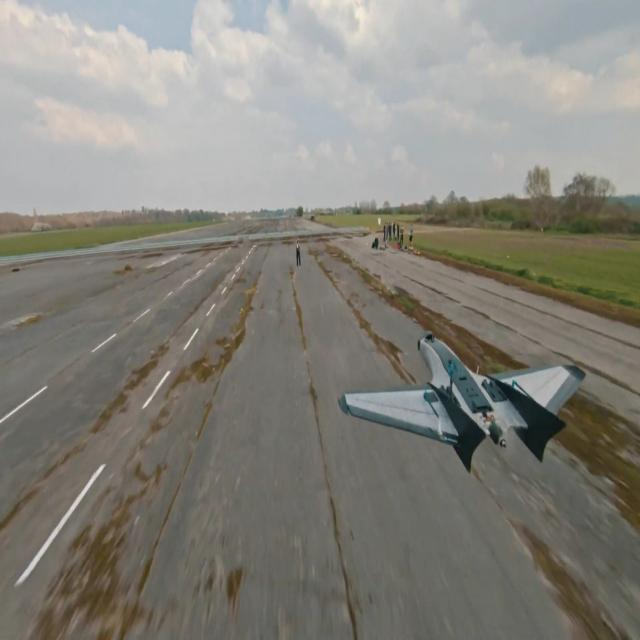iha: (335, 324, 591, 475)
